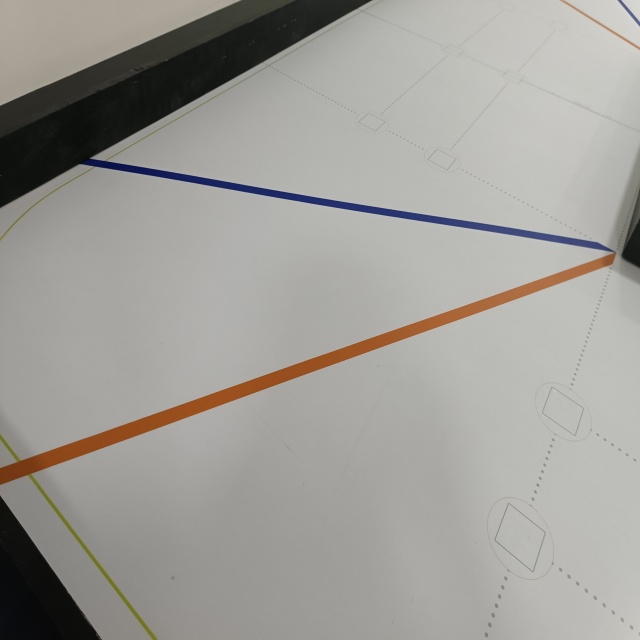blue line: (69, 142, 630, 259), (617, 0, 640, 35)
orange line: (0, 244, 624, 493), (562, 0, 640, 56)
